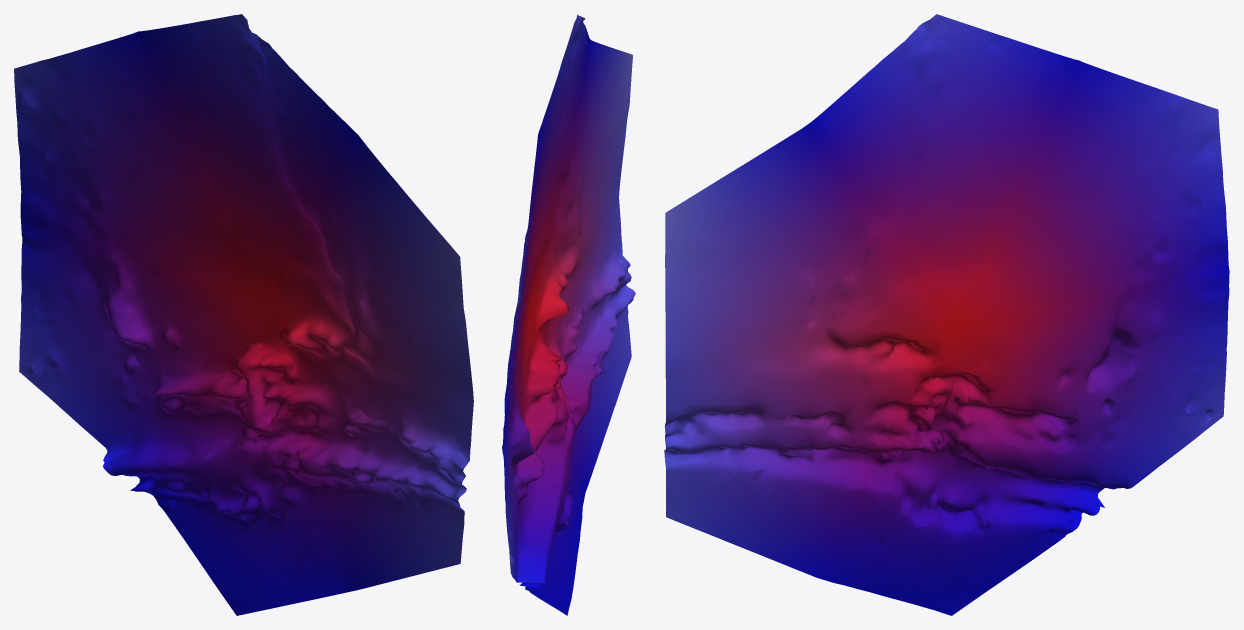
The model's file is Hex_21.fbx.
3 renders of one model, left to right at view 1: azimuth 30°, elevation 25°; view 2: azimuth 150°, elevation 25°; view 3: azimuth 270°, elevation 25°, orthographic.
Visible parts, largest first — view 1: Hex_21; view 2: Hex_21; view 3: Hex_21.
Part boxes in pixels (<box>): Hex_21: <box>14,14,473,615</box>; Hex_21: <box>502,14,635,615</box>; Hex_21: <box>664,14,1229,615</box>.
Bounding box in the file's own units: 158 × 509 × 434.
